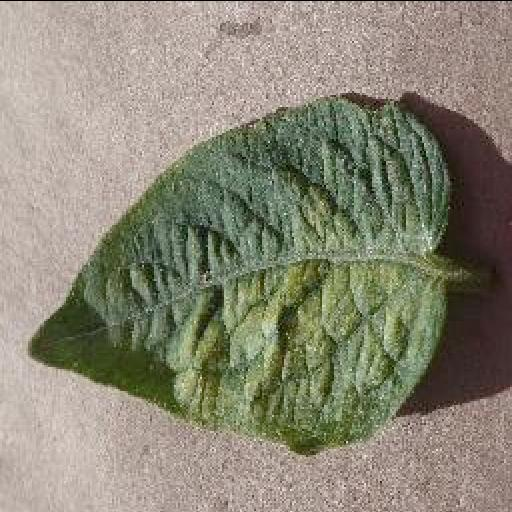disease_tomato: (26, 94, 450, 456)
